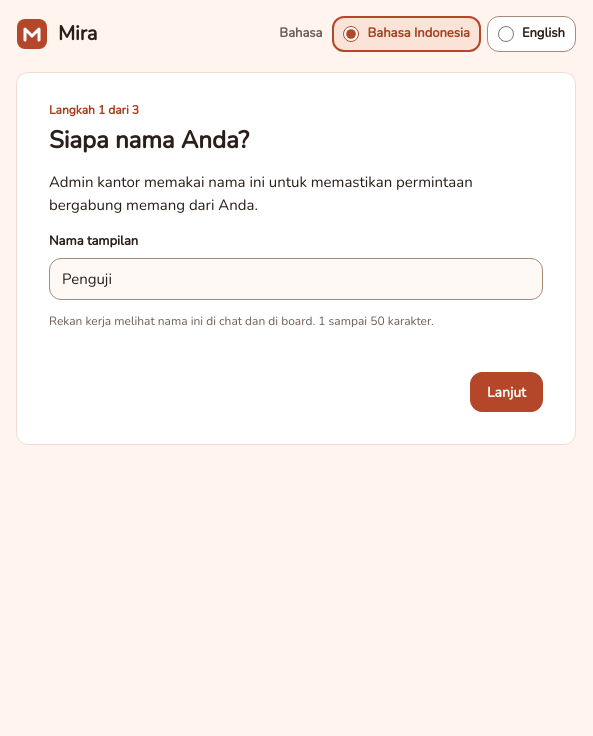
Test: Onboarding: langkah nama › Ubah nama dari formulir kantor: kembali ke langkah 1, lalu ke formulir yang sama tanpa mencari ulang
The image size is (593, 736).
Later steps or results of the test are not shown.
Expected: the text "Langkah 1 dari 3" is shown, [49, 102, 139, 118]
Click the button "Lanjut": x=506, y=392 [470, 372, 543, 412]
Wait 3500 ms
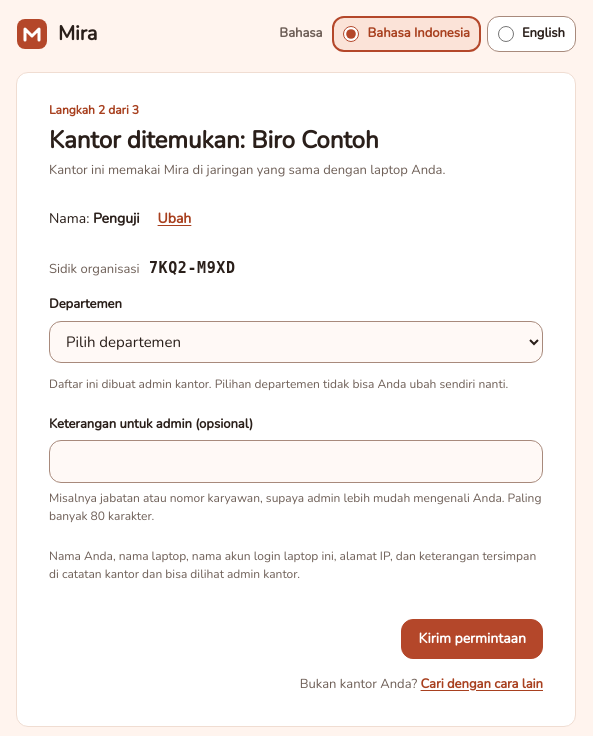
Click the button with aria-label "Ubah nama": x=174, y=218 [152, 196, 197, 240]
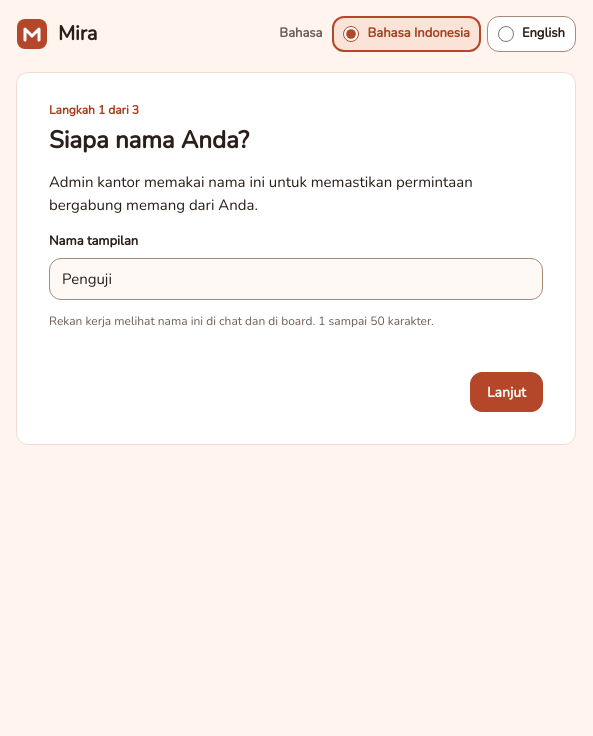
Replace the text in the field labelled "Nama tampilan" with "Penguji Baru": x=296, y=279 [49, 258, 543, 300]
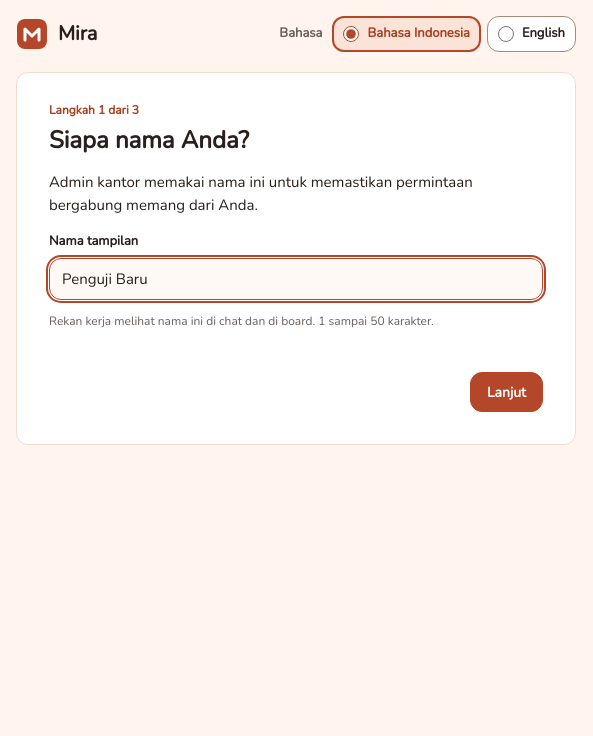
Click the button "Lanjut": x=506, y=392 [470, 372, 543, 412]
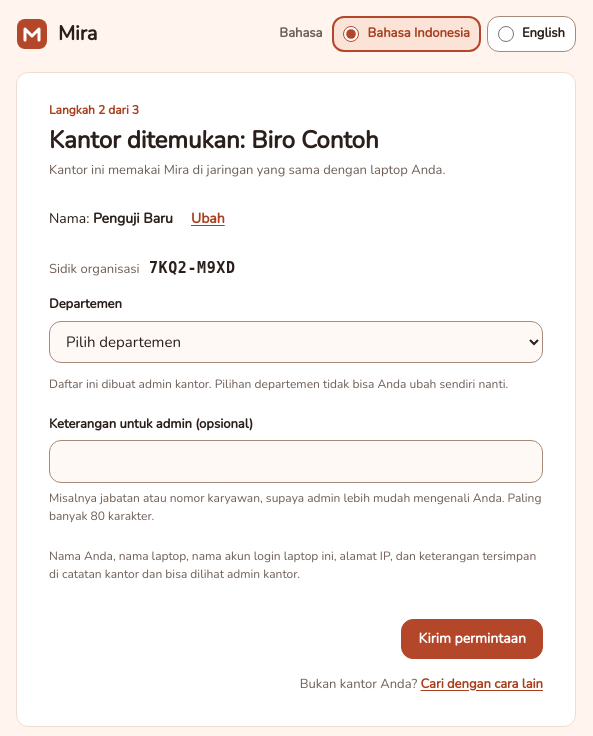
Now the text "Penguji Baru" is shown, box [93, 209, 173, 228]
